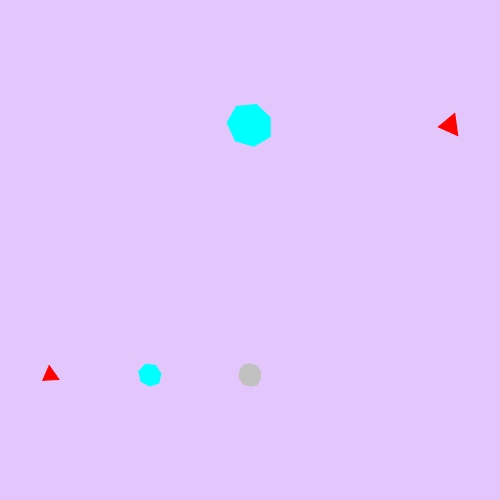decagon: (234, 360, 267, 391)
heptagon: (224, 100, 276, 150), (134, 360, 166, 391)
triangle: (436, 110, 465, 140), (38, 362, 63, 388)
